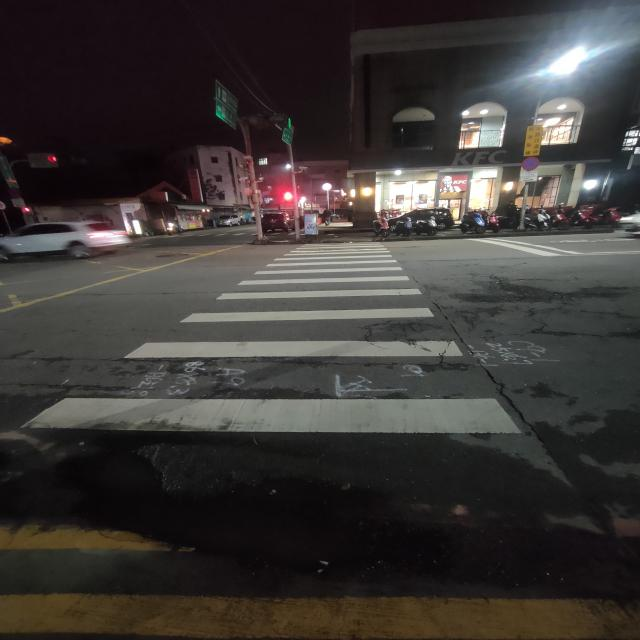zebra crossing: (20, 241, 519, 434), (149, 233, 257, 238)
